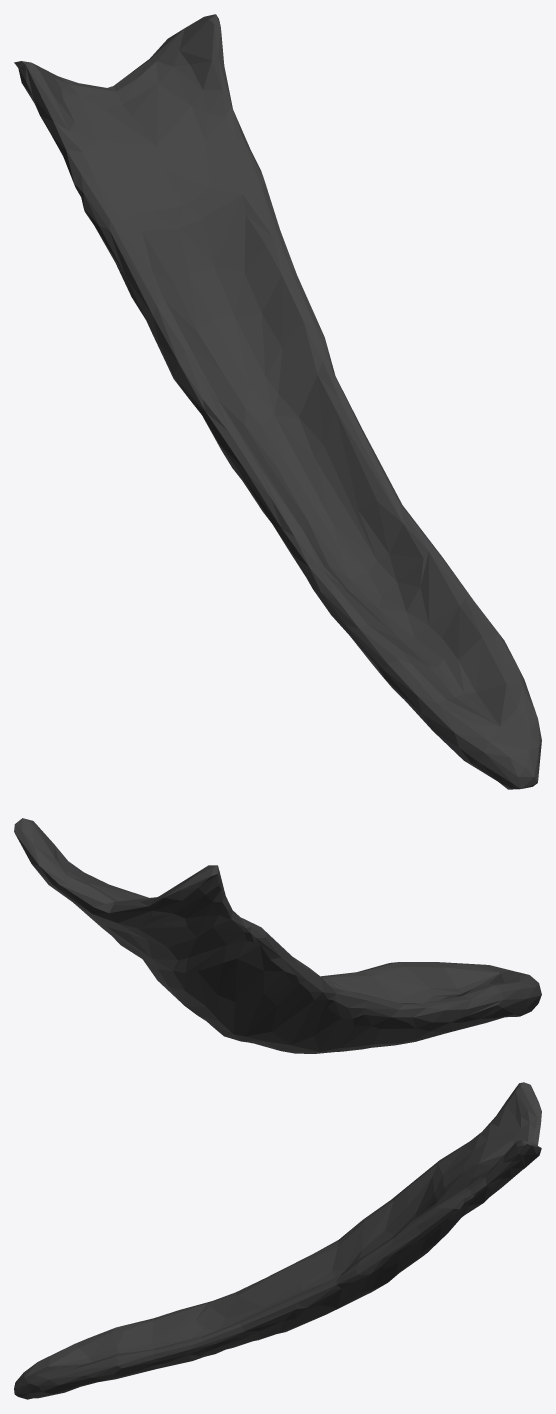
Rendered from m_mylohyoideus.glb.
3 renders of one model, top to bottom at view 1: azimuth 30°, elevation 25°; view 2: azimuth 150°, elevation 25°; view 3: azimuth 270°, elevation 25°, orthographic. The views are drawn at different scales.
Visible parts, largest first — view 1: m_mylohyoideus; view 2: m_mylohyoideus; view 3: m_mylohyoideus.
Boxes of the visible parts, box(x1,y1,x2,y2) form: m_mylohyoideus: box(14, 14, 541, 789); m_mylohyoideus: box(14, 818, 541, 1053); m_mylohyoideus: box(14, 1082, 541, 1399).
Bounding box in the file's own units: 0.00101 × 0.00221 × 0.0037.
1 material, 1 textured.
